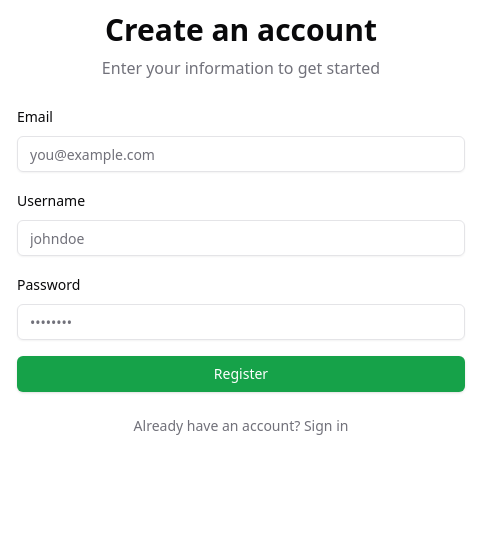
Test: RegisterForm › shows validation error for short password
Step 1. Type "short" into the password field labelled "Password" → coordinates (241, 322), box [17,304,465,340]
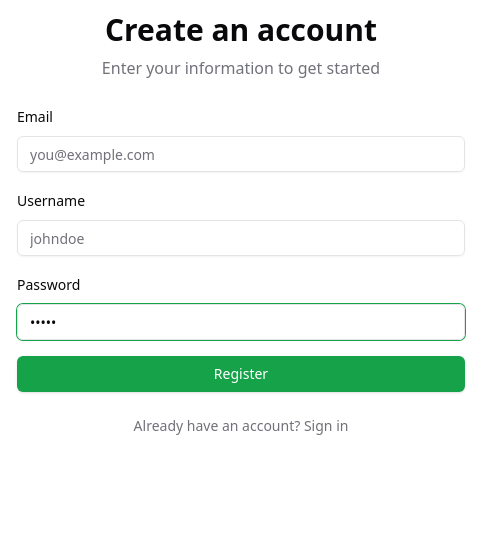
Step 2. Click the button "Register" → coordinates (241, 374), box [17,356,465,392]
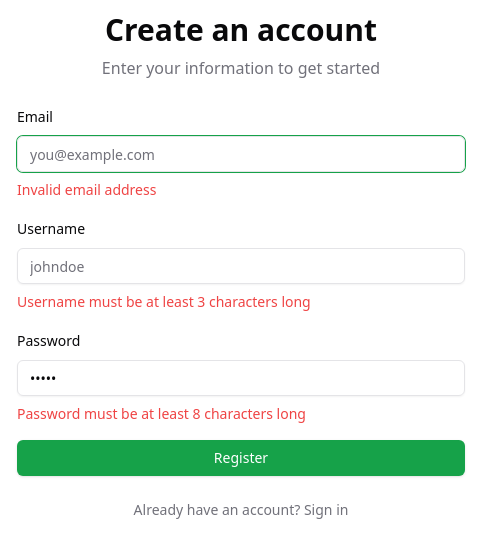
Expected: the text "Password must be at least 8 characters long" is shown, [17,404,306,423]
